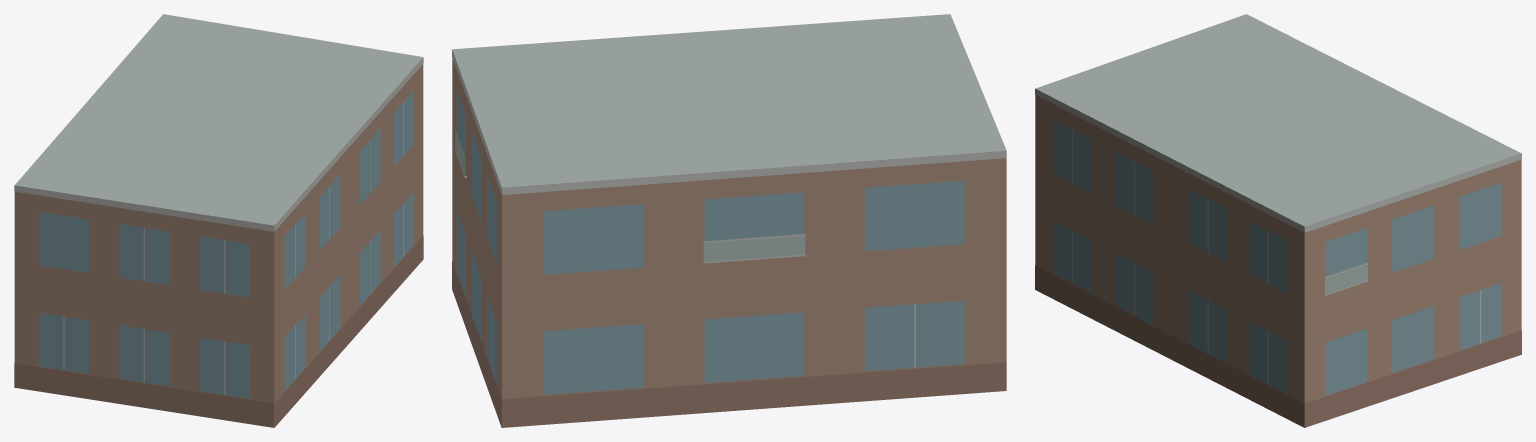
Rendered from survey-upis-32948461.glb.
The picture shows the model from 3 angles, left to right: view 1: azimuth 30°, elevation 25°; view 2: azimuth 150°, elevation 25°; view 3: azimuth 270°, elevation 25°; orthographic projection. The views are drawn at different scales.
Visible parts, largest first — view 1: survey-upis-32948461.tmp; view 2: survey-upis-32948461.tmp; view 3: survey-upis-32948461.tmp.
Boxes of the visible parts, x1,y1,x2,y2 form: survey-upis-32948461.tmp: [14, 14, 423, 427]; survey-upis-32948461.tmp: [452, 14, 1006, 427]; survey-upis-32948461.tmp: [1035, 14, 1521, 427].
Bounding box in the file's own units: 18.03 × 7.95 × 17.43.
